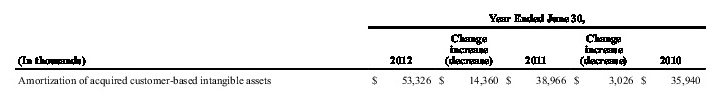table: (0, 0, 727, 101)
